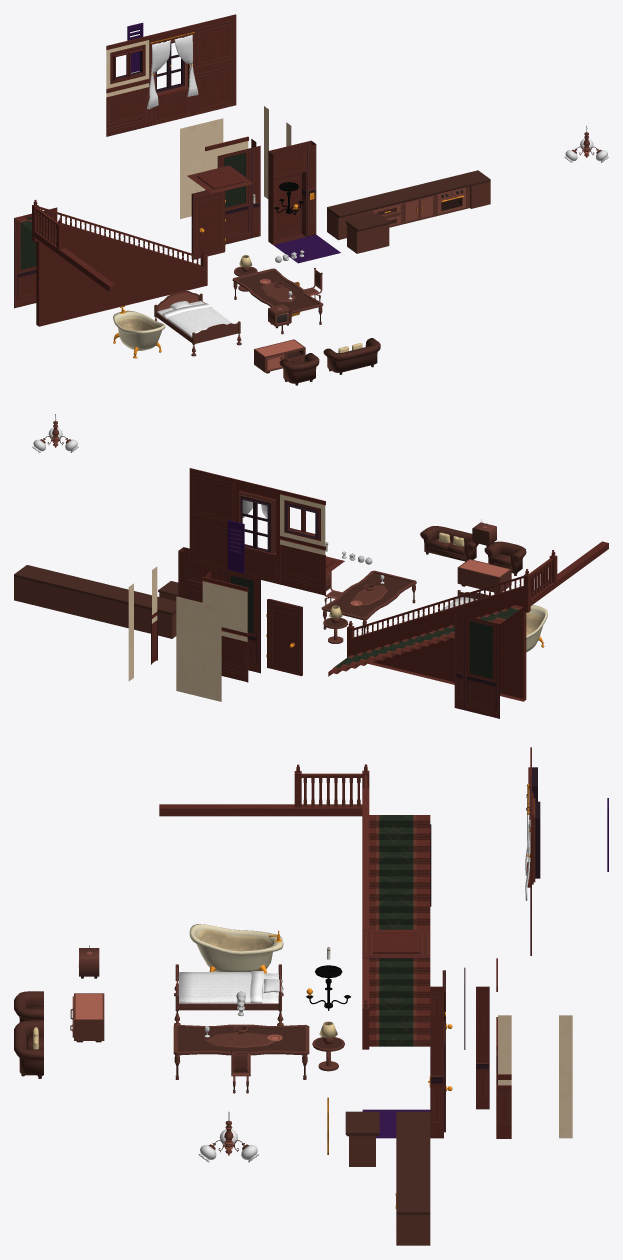
The model's file is Build01.fbx.
The picture shows the model from 3 angles, top to bottom: view 1: azimuth 30°, elevation 25°; view 2: azimuth 150°, elevation 25°; view 3: azimuth 270°, elevation 25°; orthographic projection. The views are drawn at different scales.
Parts seen in each view (by area): view 1: Stairs_Ramp, WallLong0, Window2, Wall1, DoorFrame03, Window1, Wall0, Door0_Flipped, Table_Large01, Wall1.001, Bath, Door0 (+18 smaller); view 2: Stairs_Ramp, Wall0, Wall1.001, WallLong0, Window2, Window1, Wall2, Door0_Flipped, Table_Large01, Wall1, Kitchen_Furtniture_Closets, Kitchen_Furtniture_Oven (+16 smaller); view 3: Stairs_carpet, Stairs, Table_Large01, Bath, Bedspread, stairs_ground_ramp, Ceiling03, Stairs_Ramp, WallAngle2, Wall_Angle1, WallAngle0, DoorFrame03 (+13 smaller).
Part boxes in pixels (x1,y1,x2,y2): Stairs_Ramp: [32, 199, 207, 326]; WallLong0: [193, 14, 236, 115]; Window2: [106, 35, 149, 136]; Wall1: [217, 145, 260, 244]; DoorFrame03: [268, 140, 316, 244]; Window1: [149, 25, 193, 126]; Wall0: [180, 118, 223, 218]; Door0_Flipped: [191, 190, 225, 259]; Table_Large01: [232, 268, 323, 334]; Wall1.001: [14, 207, 57, 308]; Bath: [113, 307, 165, 358]; Door0: [273, 172, 301, 240]; Stairs_Ramp: [347, 569, 530, 701]; Wall0: [176, 596, 221, 701]; Wall1.001: [454, 613, 499, 718]; WallLong0: [189, 468, 235, 573]; Window2: [280, 490, 325, 595]; Window1: [235, 479, 280, 584]; Wall2: [202, 576, 248, 682]; Door0_Flipped: [266, 599, 302, 676]; Table_Large01: [321, 570, 416, 633]; Wall1: [215, 569, 260, 673]; Kitchen_Furtniture_Closets: [70, 578, 116, 622]; Kitchen_Furtniture_Oven: [36, 570, 82, 613]; Stairs_carpet: [376, 815, 416, 1046]; Stairs: [369, 815, 430, 1046]; Table_Large01: [173, 1024, 309, 1079]; Bath: [189, 924, 283, 973]; Bedspread: [179, 971, 264, 1003]; stairs_ground_ramp: [159, 804, 362, 816]; Ceiling03: [362, 929, 430, 958]; Stairs_Ramp: [362, 764, 369, 1049]; WallAngle2: [496, 1015, 511, 1138]; Wall_Angle1: [476, 986, 489, 1109]; WallAngle0: [559, 1015, 572, 1138]; DoorFrame03: [430, 1015, 443, 1138].
Bounding box in the file's own units: 23.92 × 10.75 × 17.55.
